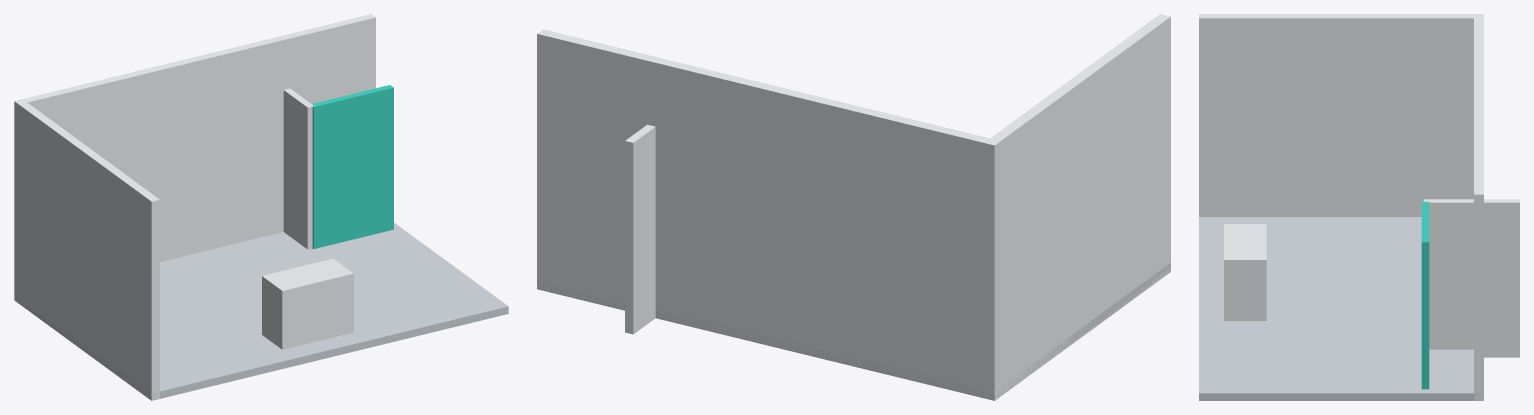
The picture shows the model from 3 angles, left to right: view 1: azimuth 30°, elevation 25°; view 2: azimuth 150°, elevation 25°; view 3: azimuth 270°, elevation 25°; orthographic projection. The views are drawn at different scales.
Parts seen in each view (by area): view 1: Exhibition Booth Concept; view 2: Exhibition Booth Concept; view 3: Exhibition Booth Concept.
Part boxes in pixels (left/top/right/bottom): Exhibition Booth Concept: left=14, top=14, right=508, bottom=400; Exhibition Booth Concept: left=537, top=14, right=1170, bottom=400; Exhibition Booth Concept: left=1199, top=14, right=1519, bottom=400.
Size of the model in its own units: 6 by 3.2 by 4.51.
